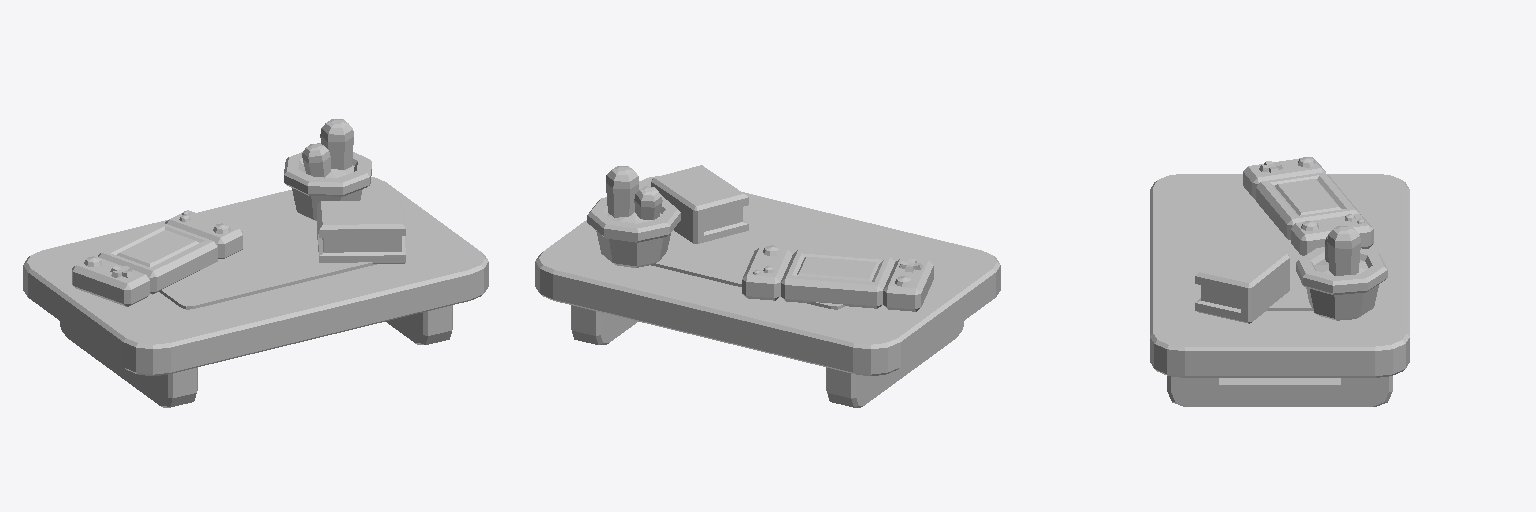
File: table_low_decorated.obj
The picture shows the model from 3 angles: view 1: azimuth 30°, elevation 25°; view 2: azimuth 150°, elevation 25°; view 3: azimuth 270°, elevation 25°; orthographic projection.
Visible parts, largest first — view 1: table_low_decorated_Cube.058; view 2: table_low_decorated_Cube.058; view 3: table_low_decorated_Cube.058.
Part boxes in pixels (x1,y1,x2,y2): table_low_decorated_Cube.058: (23,119,488,407); table_low_decorated_Cube.058: (535,165,1000,407); table_low_decorated_Cube.058: (1150,157,1409,406).
Size of the model in its own units: 2.4 by 1.05 by 1.5.